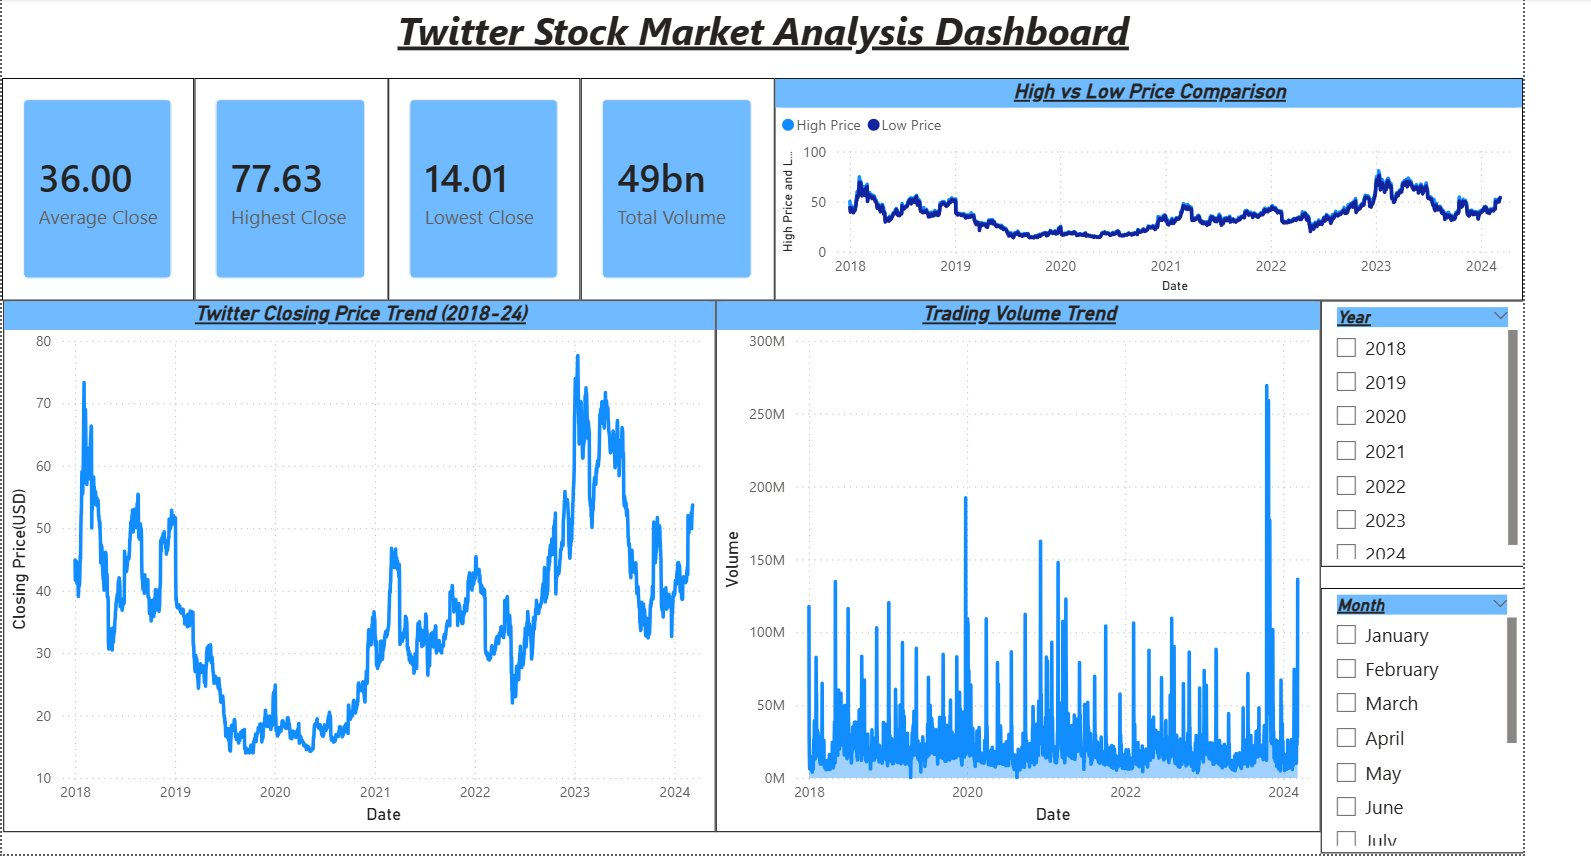

This screenshot's page, from the dashboard's own definition file:
{"tool":"powerbi","page":{"name":"Page 1","canvas":[1280,720],"ordinal":0},"visuals":[{"type":"cardVisual","fields":{"Data":["TWTR.Average Close"]},"box":[0,67.3,161.9,187.2],"z":0},{"type":"cardVisual","fields":{"Data":["TWTR.Highest Close"]},"box":[161.9,67.3,163,187.2],"z":1},{"type":"cardVisual","fields":{"Data":["TWTR.Lowest Close"]},"box":[324.9,67.3,161.9,187.2],"z":2},{"type":"cardVisual","fields":{"Data":["TWTR.Total Volume"]},"box":[486.8,67.3,163,187.2],"z":3},{"type":"lineChart","title":"Twitter Closing Price Trend (2018-24)","fields":{"Y":["Sum(TWTR.Close)"],"Category":["TWTR.Date"]},"box":[1.1,254.4,599.3,446.8],"z":4},{"type":"areaChart","title":"Trading Volume Trend","fields":{"Y":["Sum(TWTR.Volume)"],"Category":["TWTR.Date"]},"box":[600.4,254.4,508.9,446.8],"z":5},{"type":"lineChart","title":"High vs Low Price Comparison","fields":{"Y":["Sum(TWTR.High)","Sum(TWTR.Low)"],"Category":["TWTR.Date"]},"box":[649.8,67.3,629.8,187.2],"z":6},{"type":"slicer","fields":{"Values":["TWTR.Date.Variation.Date Hierarchy.Year"]},"box":[1109.2,254.4,171.4,223.9],"z":7},{"type":"slicer","fields":{"Values":["TWTR.Date.Variation.Date Hierarchy.Month"]},"box":[1109.2,478.4,171.4,222.9],"z":8},{"type":"textbox","box":[1.1,0,1278.5,52.6],"z":9}]}

Visuals, with their boxes in screenshot pixels (x1, y1, x2, y2):
cardVisual - TWTR.Average Close: detection(8, 104, 198, 324)
cardVisual - TWTR.Highest Close: detection(198, 104, 390, 324)
cardVisual - TWTR.Lowest Close: detection(390, 104, 580, 324)
cardVisual - TWTR.Total Volume: detection(580, 104, 772, 324)
"Twitter Closing Price Trend (2018-24)" lineChart: detection(10, 324, 714, 849)
"Trading Volume Trend" areaChart: detection(714, 324, 1311, 849)
"High vs Low Price Comparison" lineChart: detection(772, 104, 1511, 324)
slicer - TWTR.Date.Variation.Date Hierarchy.Year: detection(1311, 324, 1513, 587)
slicer - TWTR.Date.Variation.Date Hierarchy.Month: detection(1311, 587, 1513, 849)
textbox: detection(10, 25, 1511, 87)
